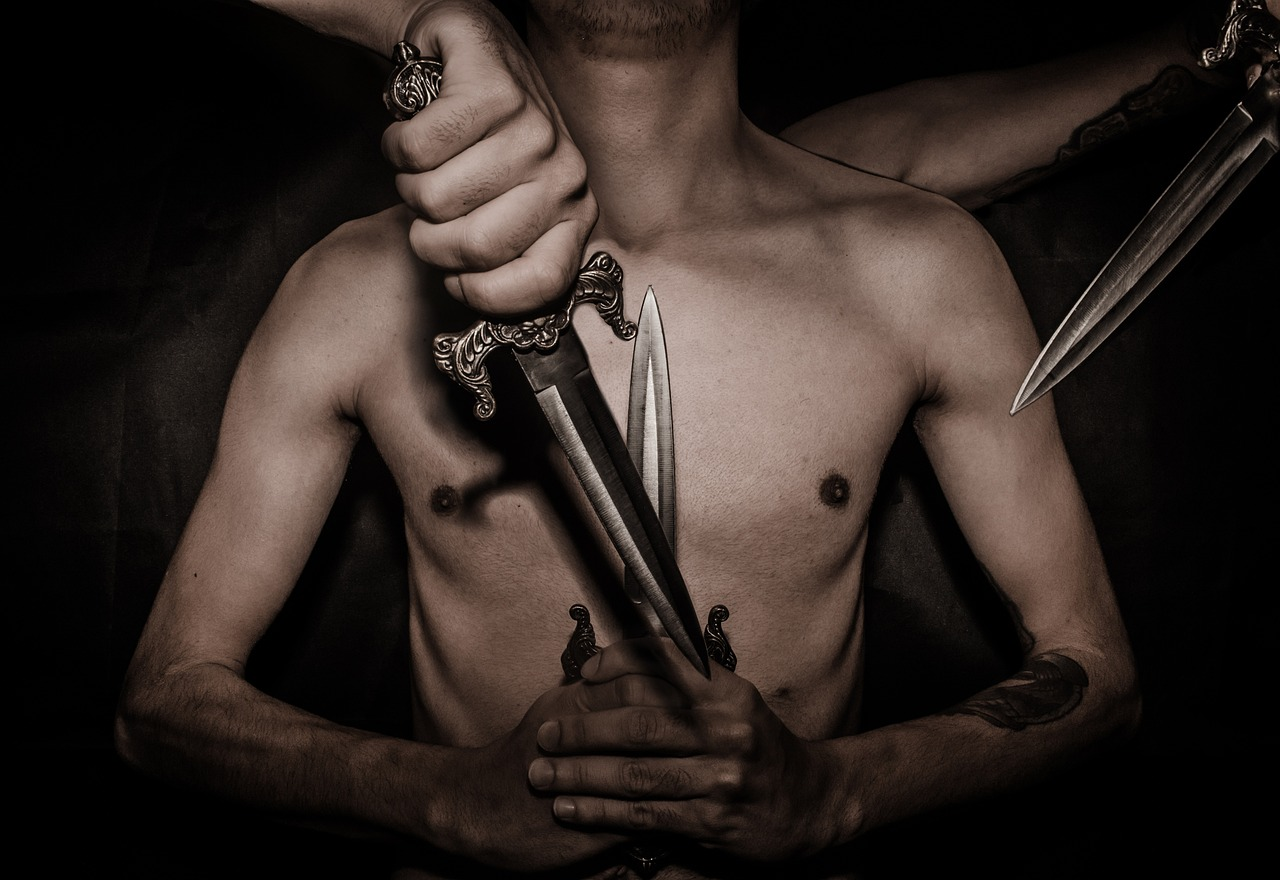knife: (377, 41, 723, 697), (1007, 0, 1280, 420), (624, 286, 674, 637)
